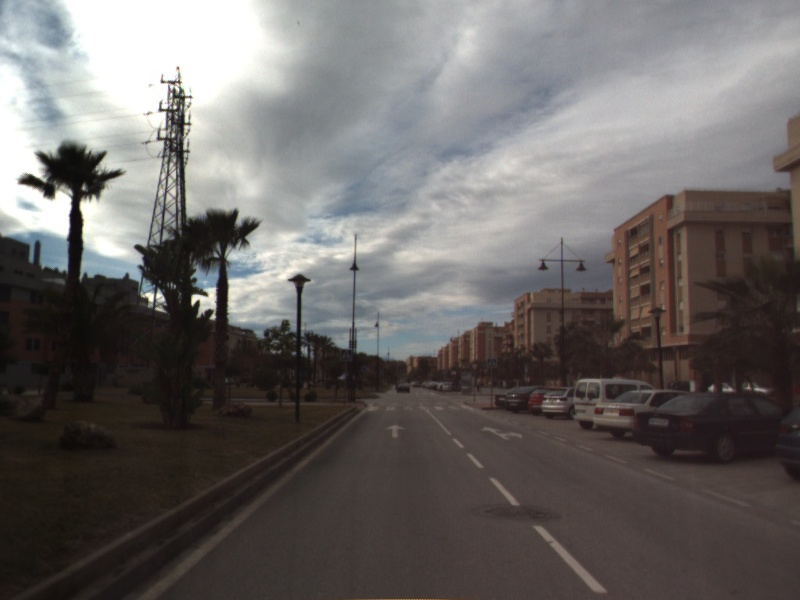STRAIGHT: (384, 422, 407, 440)
STRAIGHT_RIGHT: (479, 424, 524, 442)
